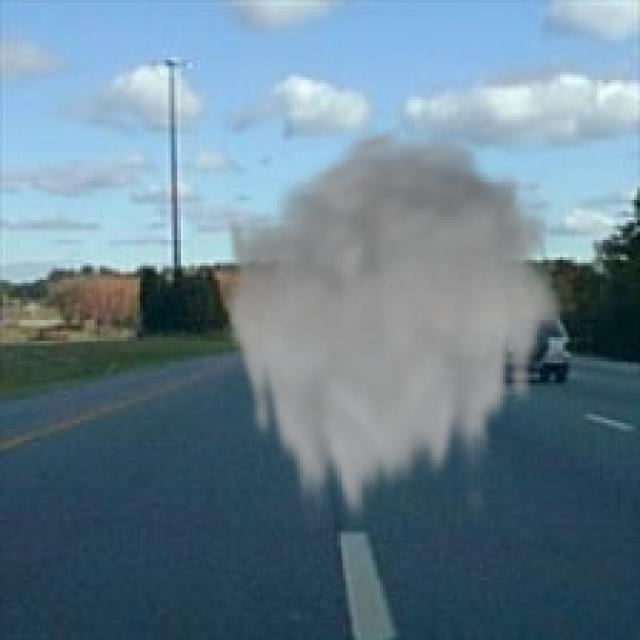Smoke: (222, 120, 568, 534)
